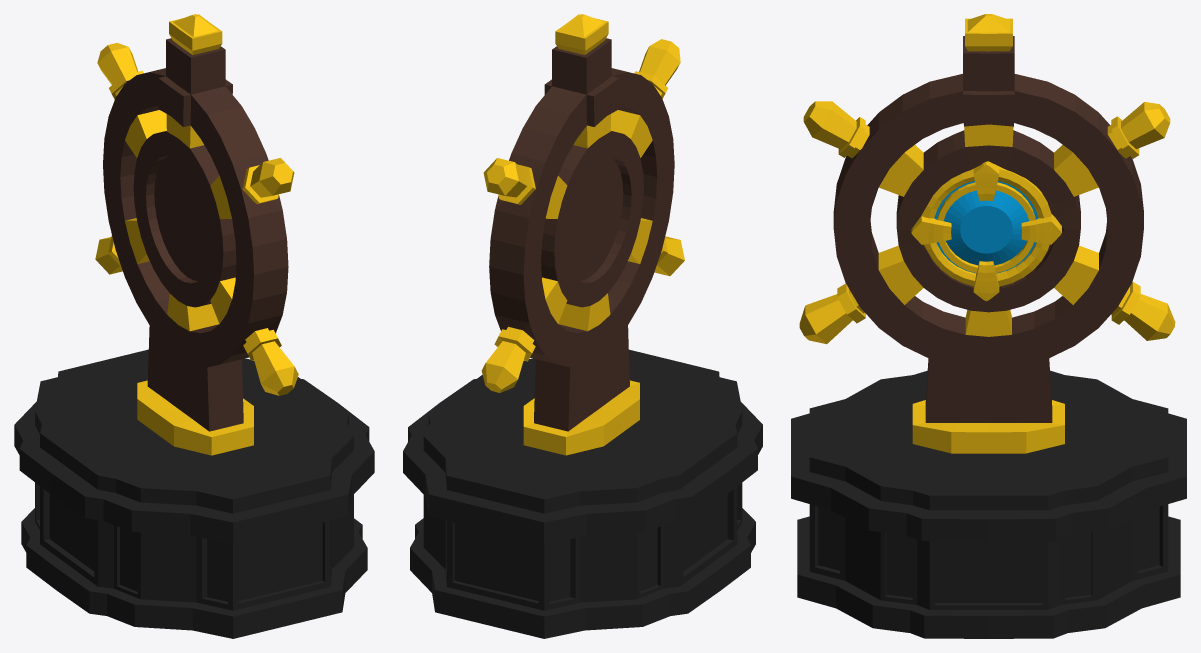
The model's file is Artifact.fbx.
3 renders of one model, left to right at view 1: azimuth 30°, elevation 25°; view 2: azimuth 150°, elevation 25°; view 3: azimuth 270°, elevation 25°, orthographic. The views are drawn at different scales.
Parts seen in each view (by area): view 1: Artifact; view 2: Artifact; view 3: Artifact, CoreInArtifact.
Boxes of the visible parts, <box> form: Artifact: <box>14,14,374,638</box>; Artifact: <box>403,14,762,638</box>; Artifact: <box>791,14,1186,638</box>; CoreInArtifact: <box>911,161,1061,301</box>.
Size of the model in its own units: 85.77 by 155 by 99.81.
